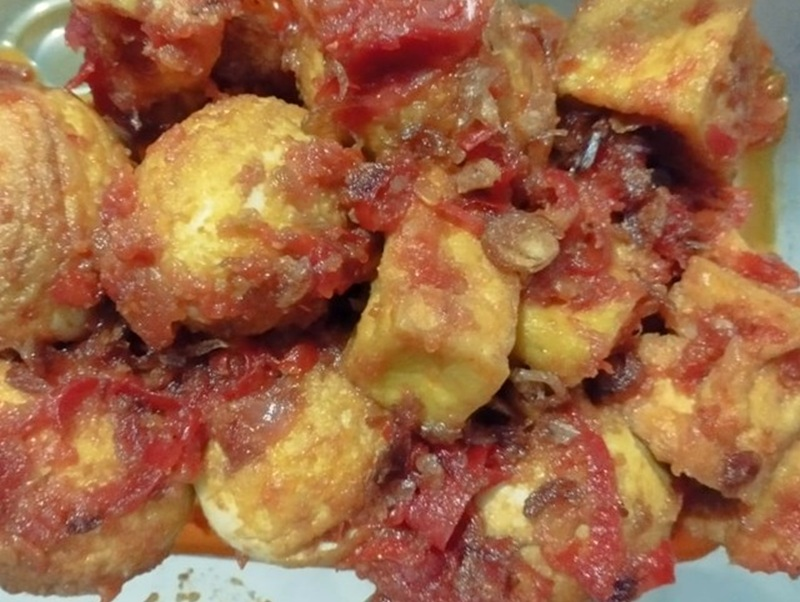Telur Balado: (35, 6, 711, 512)
